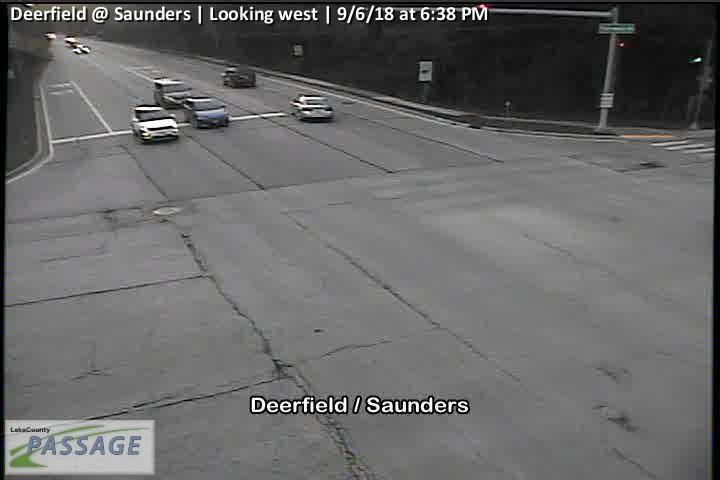SUV: (130, 104, 180, 141), (183, 95, 231, 129), (152, 79, 192, 109), (223, 65, 255, 87)
Sedan: (289, 93, 334, 120)
